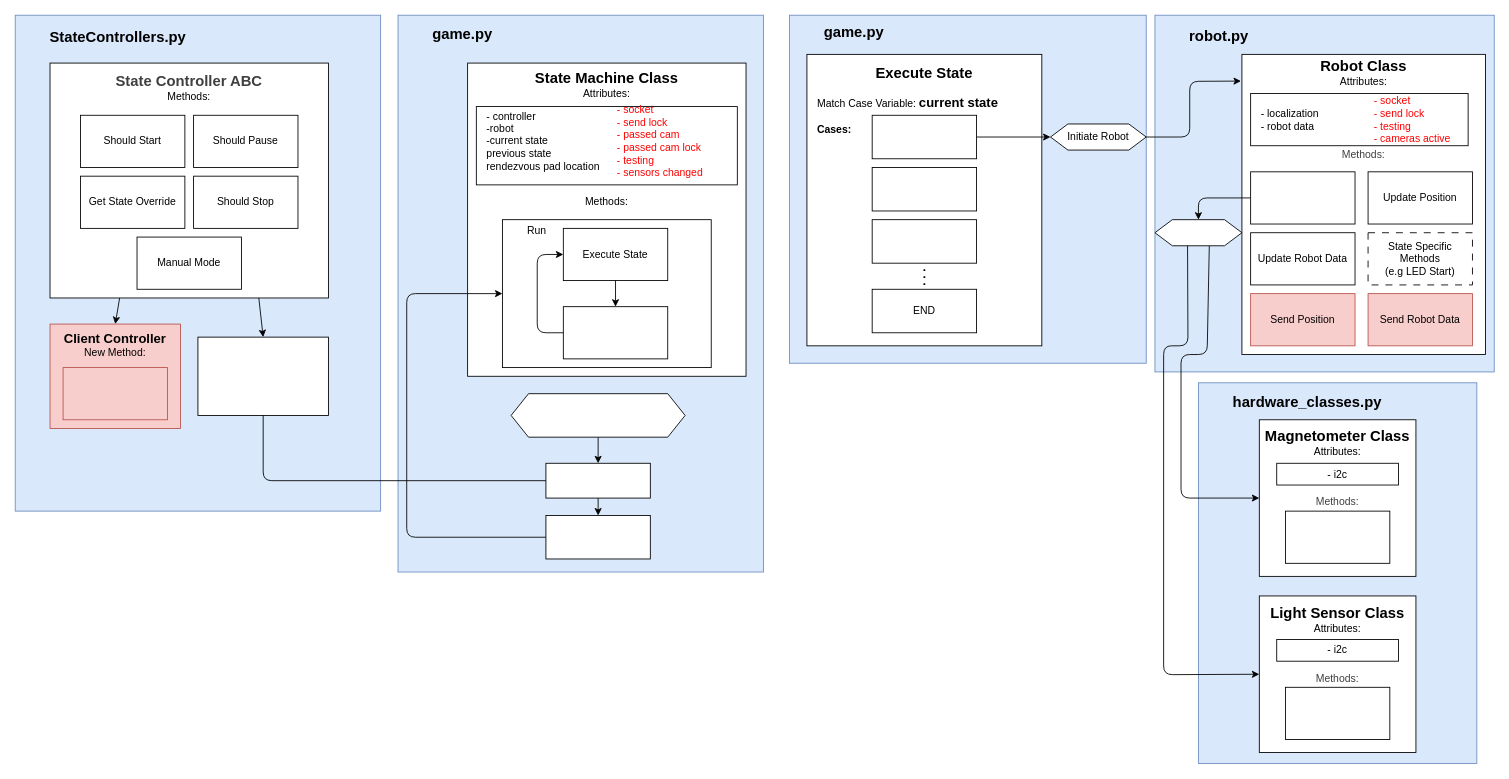
The diagram is 1509 pixels wide and 779 high, and some of its shapes have lost their labels. The centre of each missing label's shape, as x and y in pixels:
__name__ == __main__: the point at 597,415
AutoController Existing methods return hardcoded booleans: the point at 262,375
Handled Commands: the point at 114,393
INIT: the point at 924,136
Initialize Controller: the point at 597,480
Initialize State Machine with Passed Controller: the point at 597,537
Initiate Sensors: the point at 1198,232
LED START: the point at 924,189
Return Axis Values: the point at 1337,536
Return Visible: the point at 1337,713
RP SCAN: the point at 924,241
Setup Hardware: the point at 1302,197
Transition to next state: the point at 615,332
